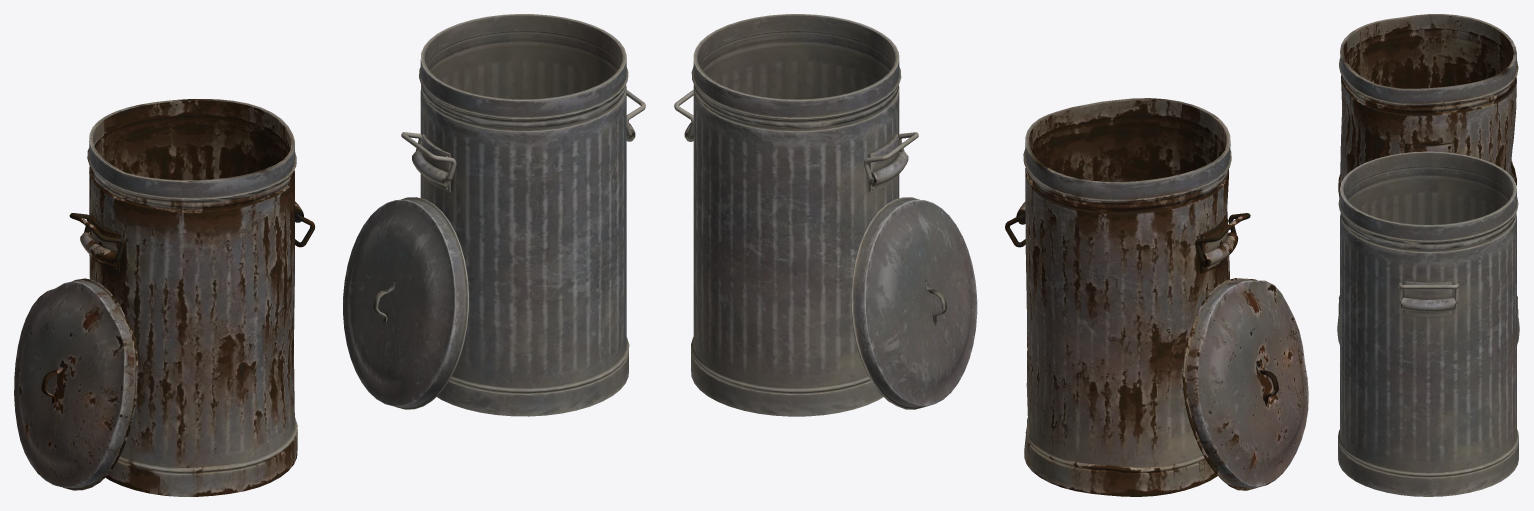
File: metal_trash_can.glb
3 views of the same model, side by side, from view 1: azimuth 30°, elevation 25°; view 2: azimuth 150°, elevation 25°; view 3: azimuth 270°, elevation 25° (orthographic). The views are drawn at different scales.
Parts seen in each view (by area): view 1: metal_trash_can_handle_left, metal_trash_can_rust; view 2: metal_trash_can_handle_left, metal_trash_can_rust; view 3: metal_trash_can_handle_left, metal_trash_can_rust.
Part boxes in pixels (x1,y1,x2,y2): metal_trash_can_handle_left: (343, 14, 645, 416); metal_trash_can_rust: (14, 99, 314, 496); metal_trash_can_handle_left: (674, 14, 977, 416); metal_trash_can_rust: (1005, 98, 1308, 496); metal_trash_can_handle_left: (1337, 151, 1519, 496); metal_trash_can_rust: (1338, 14, 1518, 316).
Size of the model in its own units: 1.78 by 0.9062 by 0.5563.
Materials: 2 (2 with a texture image).
